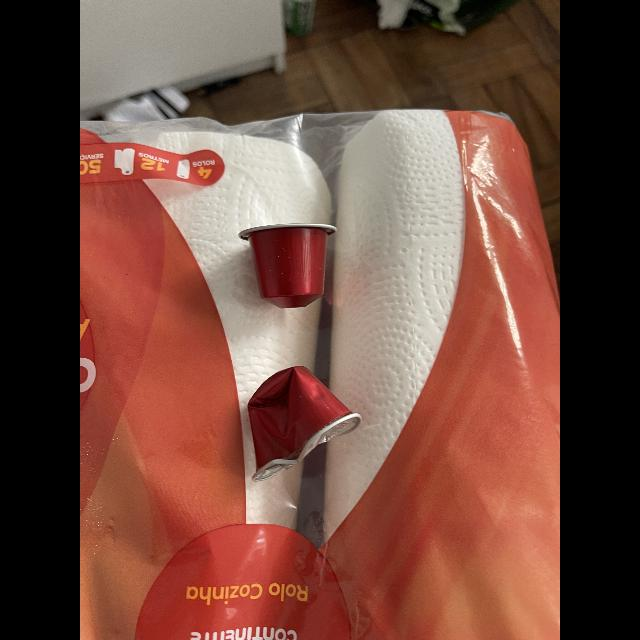damaged_capsule: (245, 352, 368, 480)
intact_capsule: (242, 218, 348, 314)
